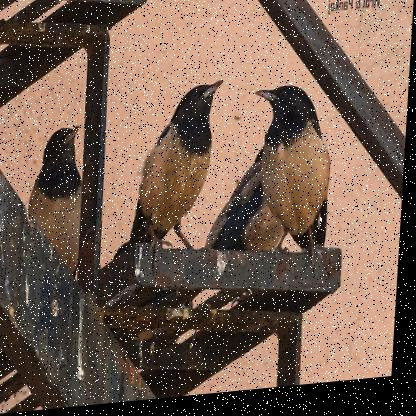Burung: (242, 87, 343, 269), (127, 84, 227, 263), (27, 121, 92, 288)
